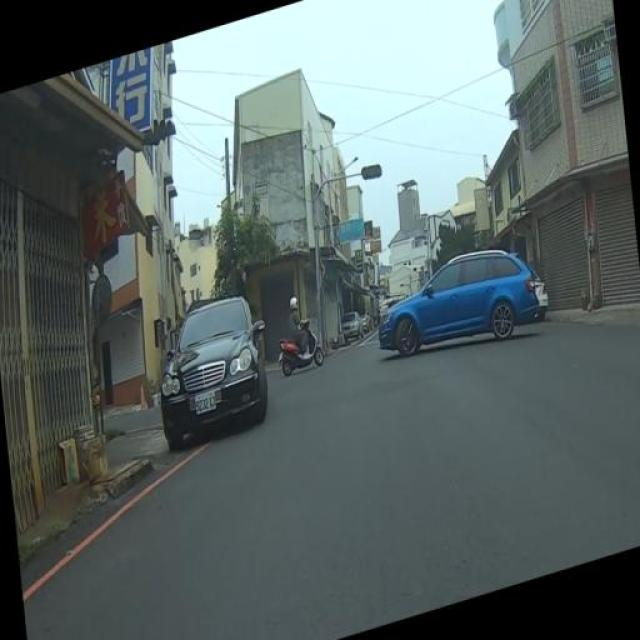illegalparking: (151, 285, 263, 450)
